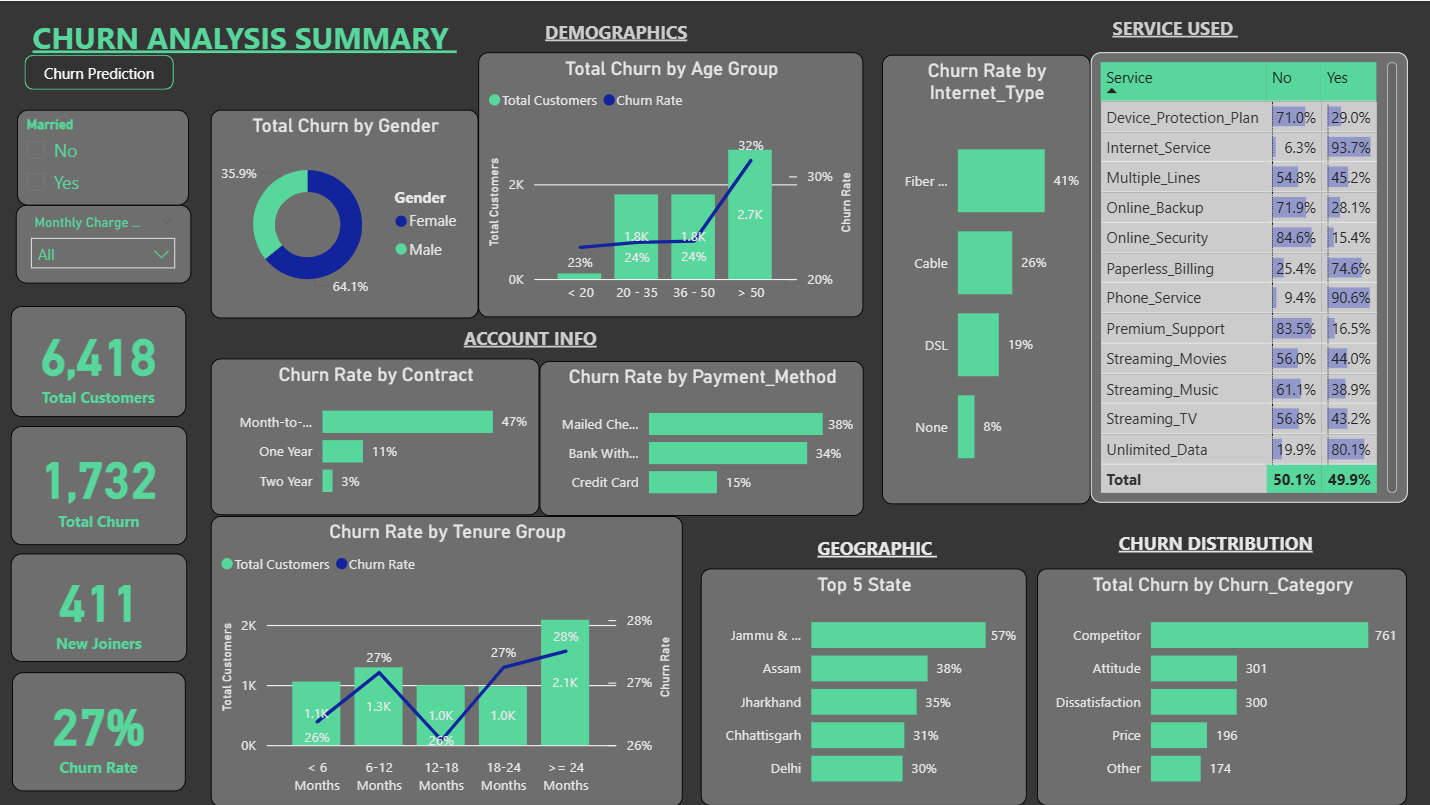

What the dashboard file says about the page in this screenshot:
{"tool":"powerbi","page":{"name":"summary ","canvas":[1280,720],"ordinal":0},"visuals":[{"type":"card","fields":{"Values":["tbl_measures.Churn Rate"]},"box":[13.6,600,155.1,106.1],"z":0},{"type":"card","fields":{"Values":["tbl_measures.New Joiners"]},"box":[12.2,493.9,157.8,96.6],"z":1000},{"type":"card","fields":{"Values":["tbl_measures.Total Churn"]},"box":[12.2,379.6,157.8,106.1],"z":2000},{"type":"card","fields":{"Values":["tbl_measures.Total Customer"]},"box":[12.2,272.1,156.5,99.3],"z":3000},{"type":"donutChart","fields":{"Category":["prod_Churn.Gender"],"Y":["tbl_measures.Total Churn"]},"box":[190.5,96.6,239.5,186.4],"z":4000},{"type":"lineStackedColumnComboChart","title":"Total Churn by Age Group","fields":{"Category":["mapping_ageGrp.AgeGroup"],"Y":["tbl_measures.Total Customers"],"Y2":["tbl_measures.Churn Rate"]},"box":[429.9,46.3,344.2,236.7],"z":5000},{"type":"clusteredBarChart","fields":{"Category":["prod_Churn.Payment_Method"],"Y":["tbl_measures.Churn Rate"]},"box":[484.4,321.1,289.8,138.8],"z":6000},{"type":"clusteredBarChart","fields":{"Y":["tbl_measures.Churn Rate"],"Category":["prod_Churn.Contract"]},"box":[190.5,319.7,293.9,140.1],"z":7000},{"type":"lineStackedColumnComboChart","title":" Churn Rate by Tenure Group ","fields":{"Category":["mapping_tenureGrp.Tenure Group "],"Y":["tbl_measures.Total Customers"],"Y2":["tbl_measures.Churn Rate"]},"box":[190.5,459.9,421.8,259.9],"z":8000},{"type":"clusteredBarChart","title":"Top 5 State","fields":{"Category":["prod_Churn.State"],"Y":["tbl_measures.Churn Rate"]},"box":[628.6,507.5,291.2,212.2],"z":9000},{"type":"clusteredBarChart","fields":{"Category":["prod_Churn.Churn_Category"],"Y":["tbl_measures.Total Churn"]},"box":[929.3,507.5,330.6,212.2],"z":10000},{"type":"clusteredBarChart","fields":{"Category":["prod_Churn.Internet_Type"],"Y":["tbl_measures.Churn Rate"]},"box":[790.5,47.6,186.4,401.4],"z":11000},{"type":"pivotTable","title":"Churn By Services","fields":{"Rows":["prod_Service.Service"],"Columns":["prod_Service.Status"],"Values":["Sum(prod_Service.Churn Status)"]},"box":[976.9,46.3,283,402.7],"z":12000},{"type":"slicer","fields":{"Values":["prod_Service.Monthly Charge Status "]},"box":[16.3,182.3,156.5,70.7],"z":13000},{"type":"slicer","title":"Married","fields":{"Values":["prod_Service.Married"]},"box":[17.7,96.6,153.7,85.7],"z":14000},{"type":"textbox","box":[26.3,8.8,403.4,59.9],"z":15000},{"type":"textbox","box":[484.4,10.9,145.6,35.4],"z":16000},{"type":"textbox","box":[727.9,472.1,123.8,31.3],"z":17000},{"type":"textbox","box":[997.3,468,195.9,35.4],"z":18000},{"type":"textbox","box":[412.2,284.4,141.5,36.7],"z":19000},{"type":"textbox","box":[991.8,8.2,126.5,38.1],"z":20000},{"type":"shape","box":[17.5,52.6,133,32.2],"z":21000}]}

Visuals, with their boxes in screenshot pixels (x1, y1, x2, y2), scaled from the page's 1280x720 canvas onto the 1430x805 screenshot:
card - tbl_measures.Churn Rate: {"left": 15, "top": 671, "right": 188, "bottom": 789}
card - tbl_measures.New Joiners: {"left": 14, "top": 552, "right": 190, "bottom": 660}
card - tbl_measures.Total Churn: {"left": 14, "top": 424, "right": 190, "bottom": 543}
card - tbl_measures.Total Customer: {"left": 14, "top": 304, "right": 188, "bottom": 415}
donutChart - prod_Churn.Gender x tbl_measures.Total Churn: {"left": 213, "top": 108, "right": 480, "bottom": 316}
"Total Churn by Age Group" lineStackedColumnComboChart: {"left": 480, "top": 52, "right": 865, "bottom": 316}
clusteredBarChart - prod_Churn.Payment_Method x tbl_measures.Churn Rate: {"left": 541, "top": 359, "right": 865, "bottom": 514}
clusteredBarChart - tbl_measures.Churn Rate x prod_Churn.Contract: {"left": 213, "top": 357, "right": 541, "bottom": 514}
" Churn Rate by Tenure Group " lineStackedColumnComboChart: {"left": 213, "top": 514, "right": 684, "bottom": 804}
"Top 5 State" clusteredBarChart: {"left": 702, "top": 567, "right": 1028, "bottom": 804}
clusteredBarChart - prod_Churn.Churn_Category x tbl_measures.Total Churn: {"left": 1038, "top": 567, "right": 1408, "bottom": 804}
clusteredBarChart - prod_Churn.Internet_Type x tbl_measures.Churn Rate: {"left": 883, "top": 53, "right": 1091, "bottom": 502}
"Churn By Services" pivotTable: {"left": 1091, "top": 52, "right": 1408, "bottom": 502}
slicer - prod_Service.Monthly Charge Status : {"left": 18, "top": 204, "right": 193, "bottom": 283}
"Married" slicer: {"left": 20, "top": 108, "right": 191, "bottom": 204}
textbox: {"left": 29, "top": 10, "right": 480, "bottom": 77}
textbox: {"left": 541, "top": 12, "right": 704, "bottom": 52}
textbox: {"left": 813, "top": 528, "right": 952, "bottom": 563}
textbox: {"left": 1114, "top": 523, "right": 1333, "bottom": 563}
textbox: {"left": 461, "top": 318, "right": 619, "bottom": 359}
textbox: {"left": 1108, "top": 9, "right": 1249, "bottom": 52}
shape: {"left": 20, "top": 59, "right": 168, "bottom": 95}
